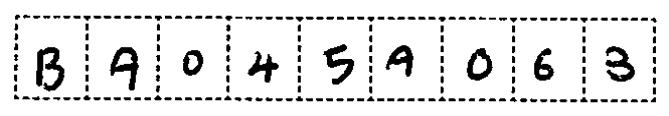0: (460, 44, 497, 82), (178, 43, 209, 80)
3: (596, 41, 641, 88)
4: (239, 42, 285, 88)
5: (316, 40, 359, 89)
6: (527, 42, 558, 87)
A: (102, 42, 148, 93), (380, 40, 417, 84)
B: (28, 41, 70, 94)
